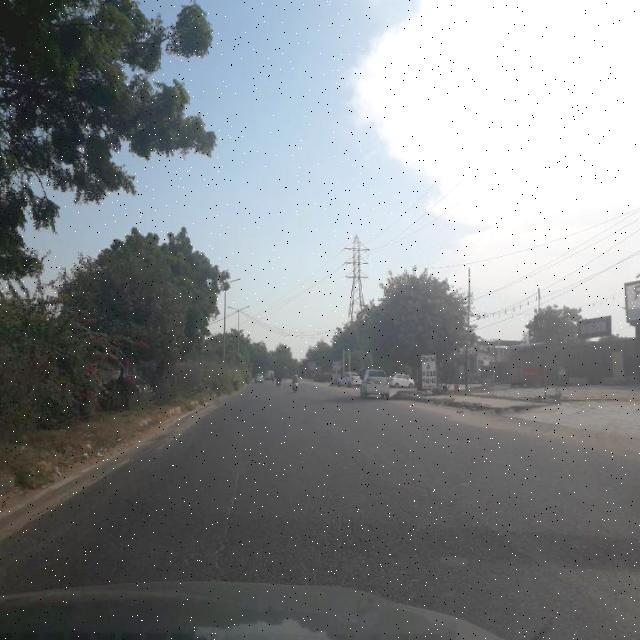D00: (204, 424, 258, 559)
